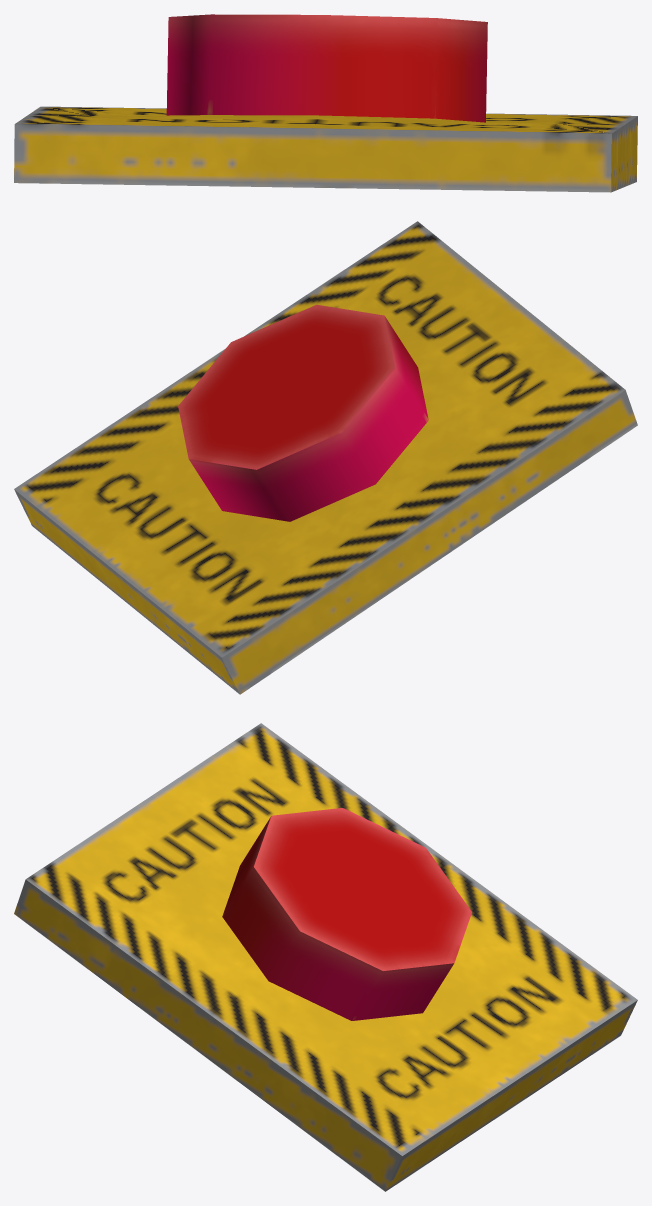
File: caution_button.fbx
The picture shows the model from 3 angles, top to bottom: view 1: azimuth 30°, elevation 25°; view 2: azimuth 150°, elevation 25°; view 3: azimuth 270°, elevation 25°; orthographic projection. The views are drawn at different scales.
Parts seen in each view (by area): view 1: Cube.060; view 2: Cube.060; view 3: Cube.060.
Boxes of the visible parts, x1,y1,x2,y2 form: Cube.060: (14,14,637,192); Cube.060: (14,221,637,694); Cube.060: (14,723,637,1191).
Bounding box in the file's own units: 287 × 121 × 290.
1 material, 1 textured.
